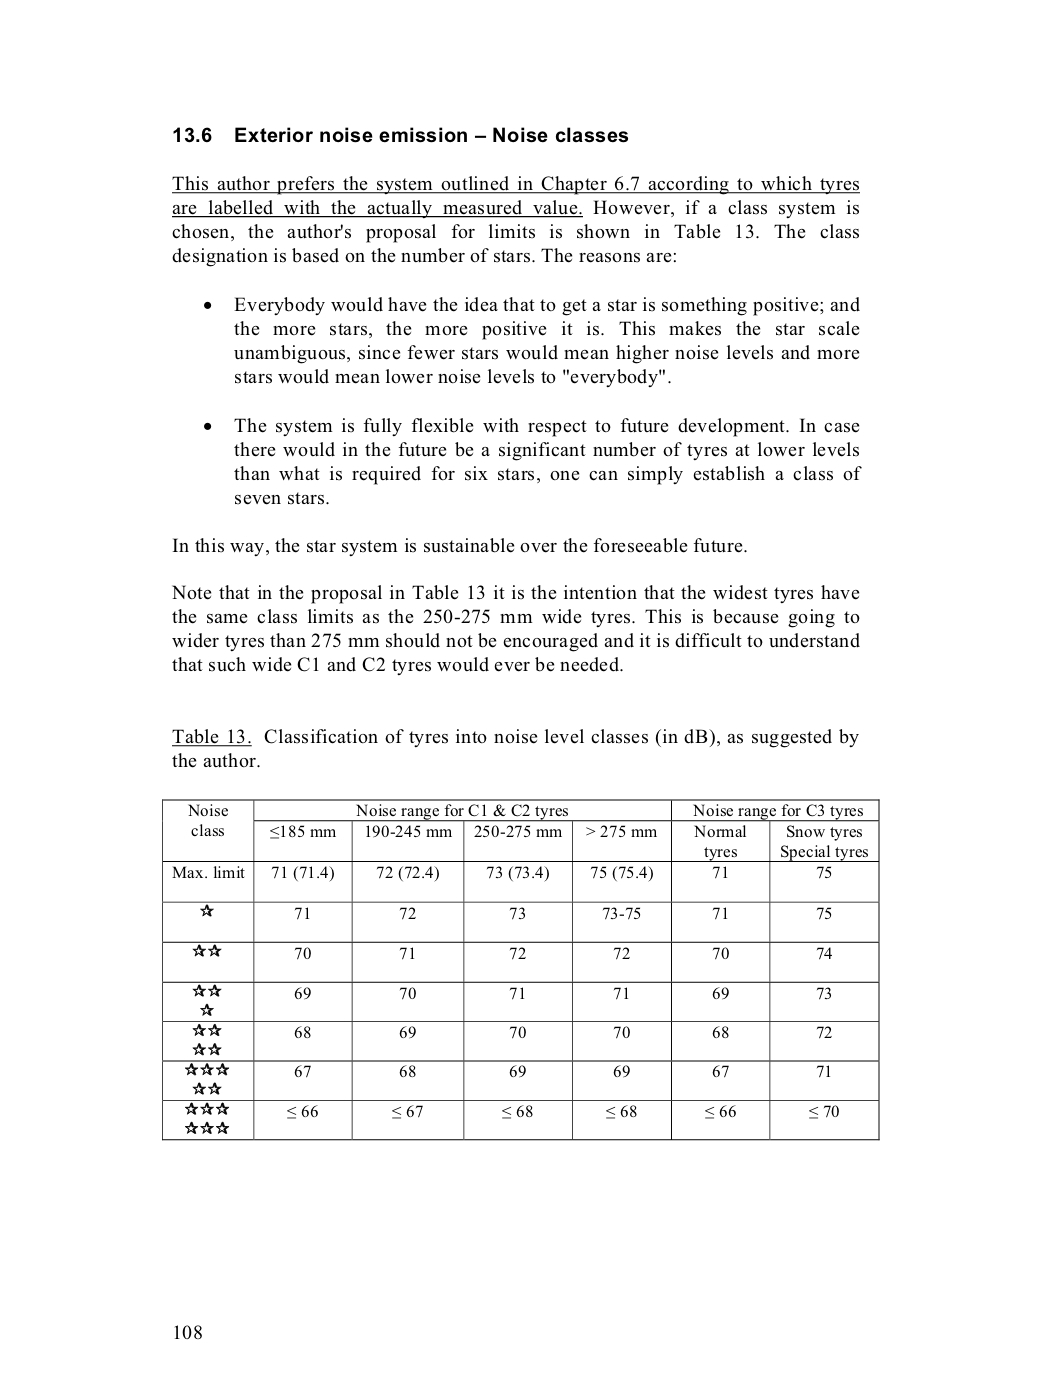Table: (162, 798, 879, 1141)
